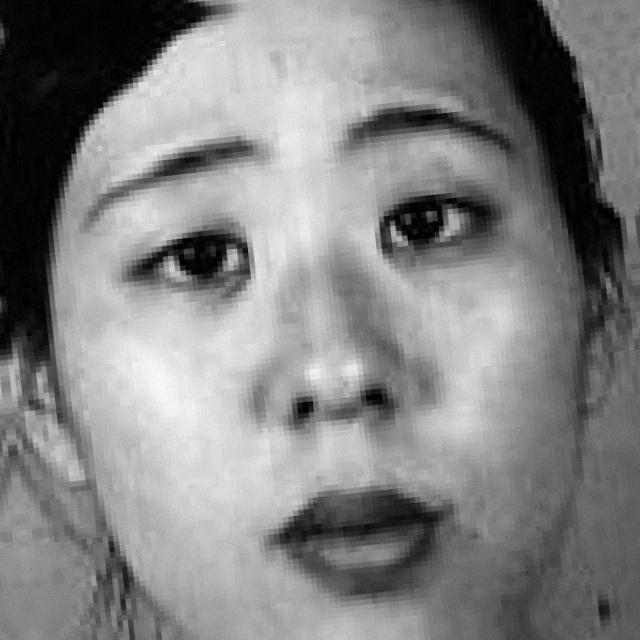sad: (88, 96, 587, 624)
